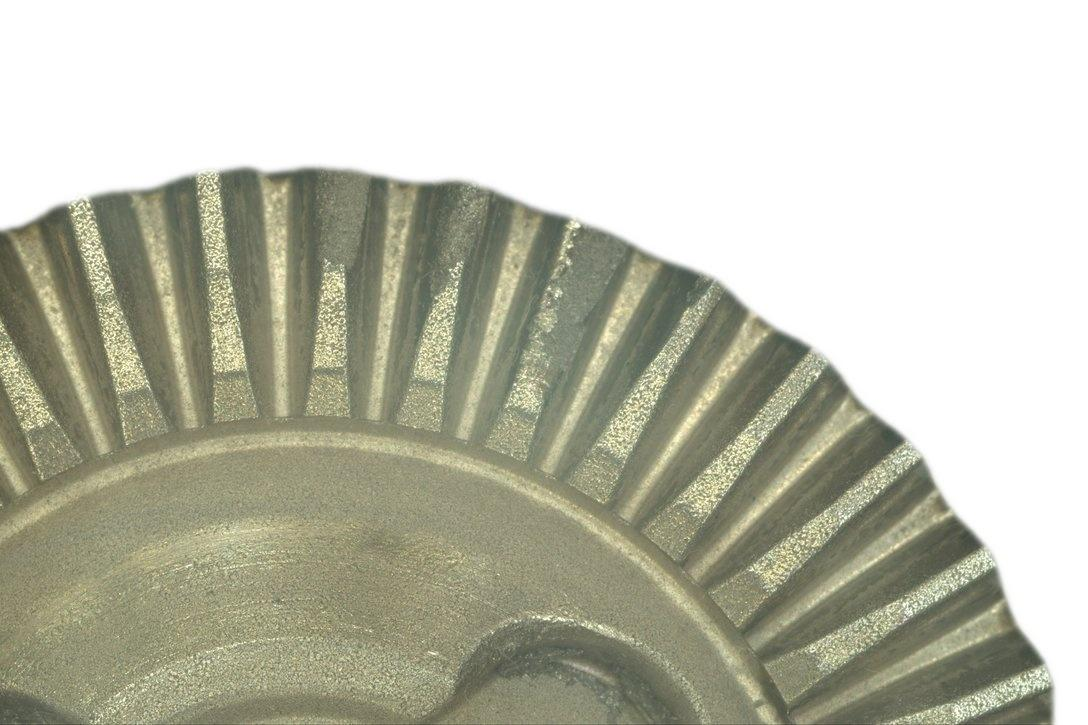defect: (538, 216, 632, 393), (424, 181, 492, 298), (314, 166, 376, 274), (686, 274, 714, 305), (812, 371, 821, 384)
